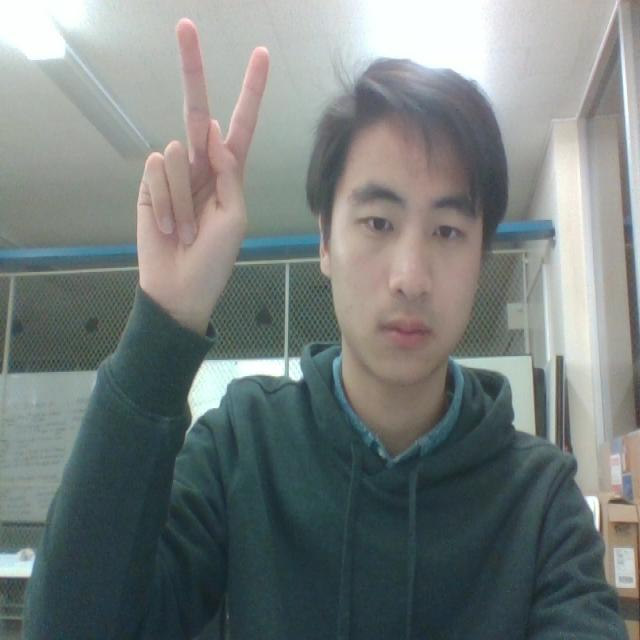K: (127, 0, 270, 330)
